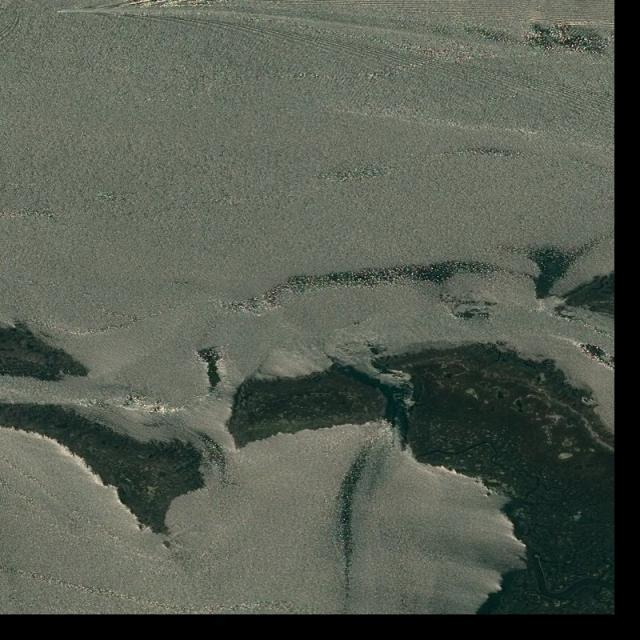ship: (58, 10, 62, 14)
